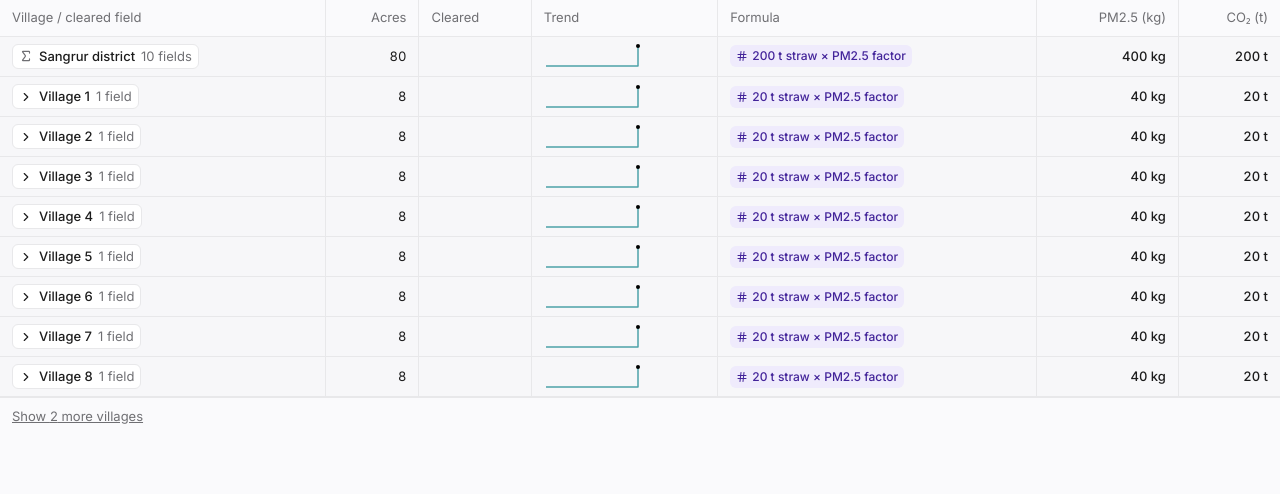
Test case: ImpactTable › paginates by village
Expected: the button "Village 8 1 field" is shown, [12,364,141,389]
Expected: the text "Village 9" is not shown
Click the button "Show 2 more villages" at (78, 416), box [12,407,143,426]
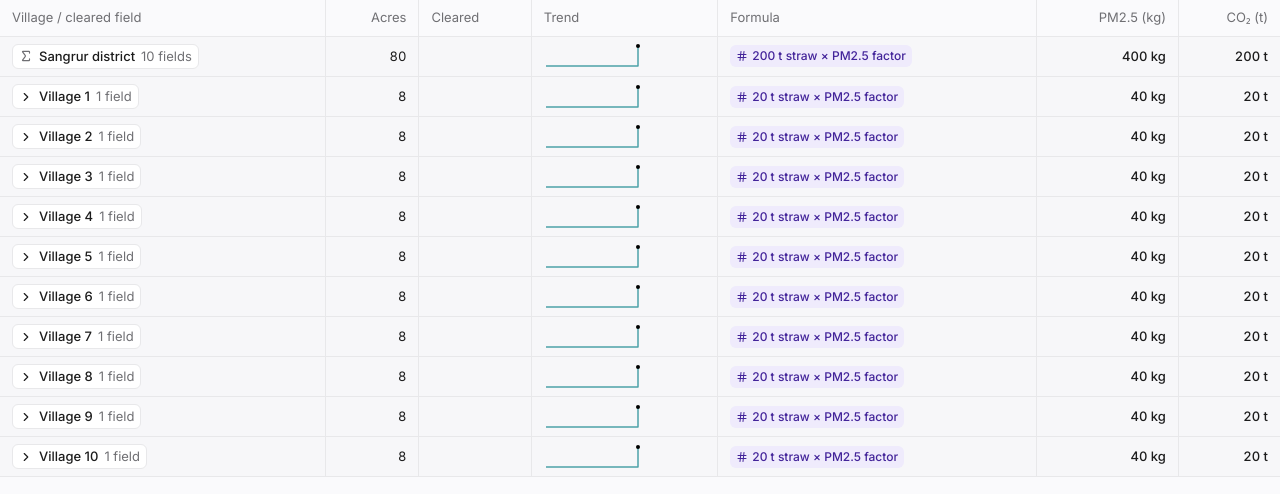
Expected: the button "Village 10 1 field" is shown, [12,444,147,469]
